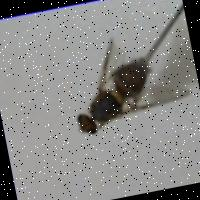Oriental-fruit-fly: (55, 19, 200, 146)
